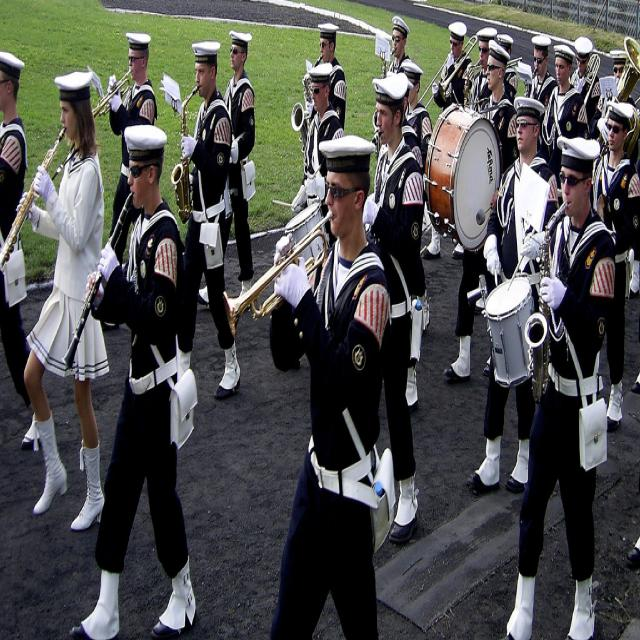clarinet: (63, 191, 133, 373)
